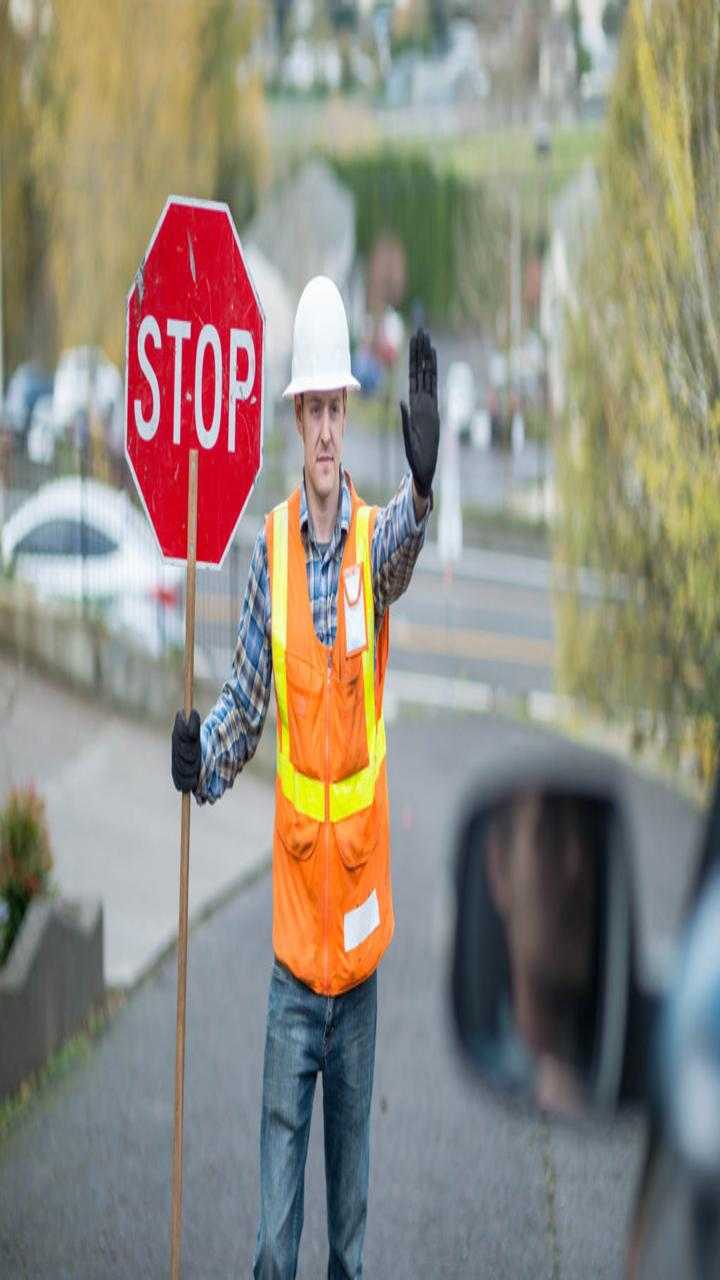Traffic sign: (110, 187, 272, 579)
pedestrian: (167, 163, 444, 1276)
